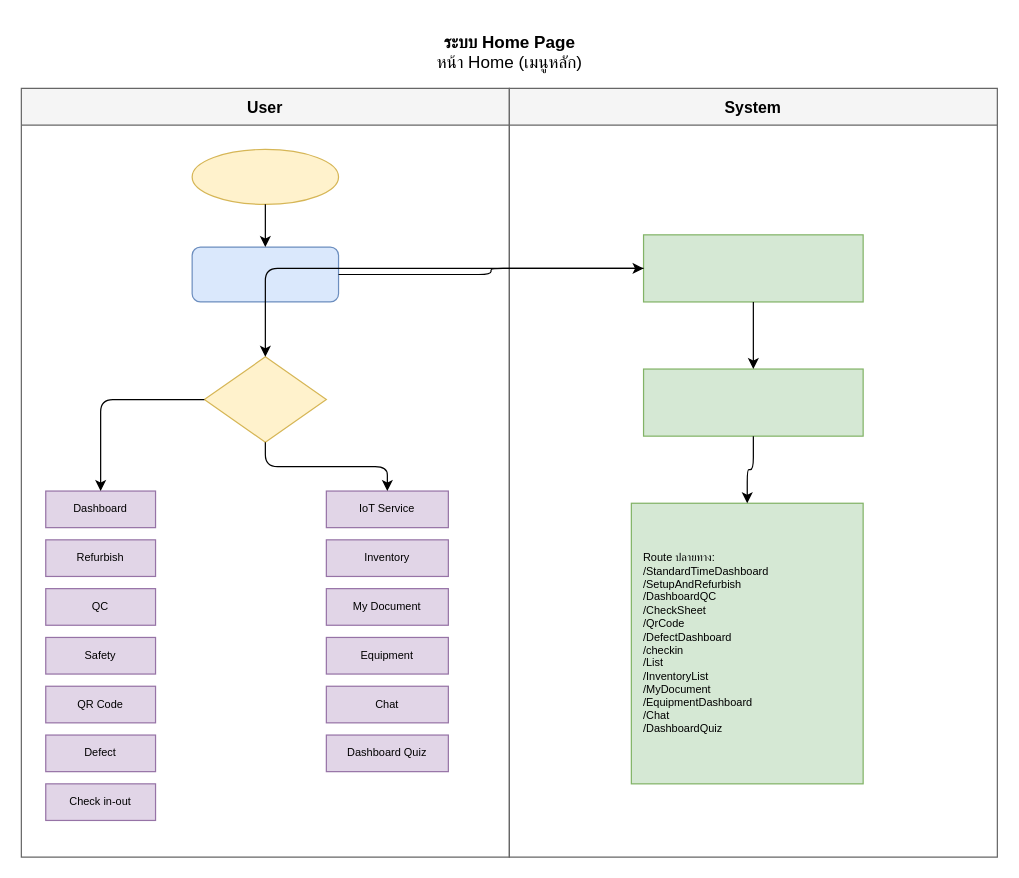
This 1019x878 diagram has some shape labels left out. Here are the shapes that lost their labels. From the top down, the box of each, then its label:
(191, 148, 339, 204): เริ่มต้น
(191, 246, 339, 302): เข้าหน้า Home (แสดง user info)
(642, 234, 863, 302): แสดง Header + ข้อมูล User (wk_ctr, role) จาก useUser() Context
(203, 356, 326, 442): เลือกเมนู?
(642, 368, 863, 436): แสดงเมนูทั้งหมด 13 รายการ (แต่ละเมนูเป็น Link → navigate ไปหน้าต่างๆ)
